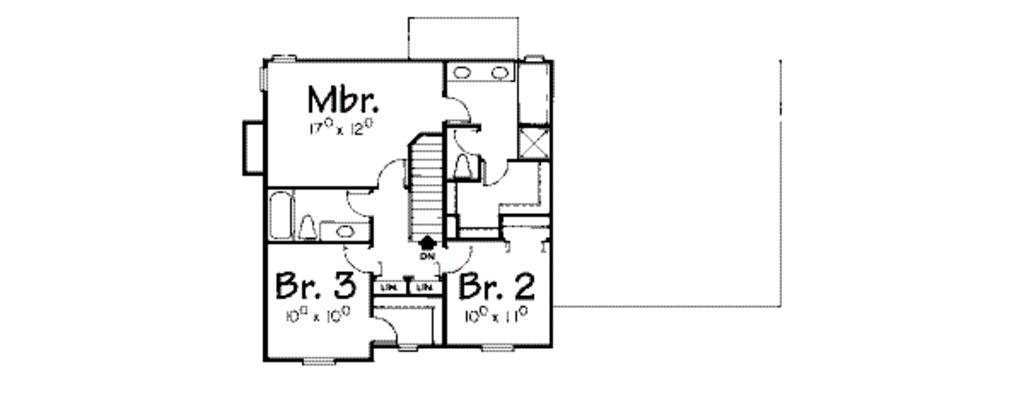door: (375, 154, 411, 196), (439, 90, 475, 130), (363, 313, 398, 347), (478, 156, 513, 190), (346, 187, 375, 221), (453, 125, 483, 155)
large_sink: (293, 212, 323, 240), (449, 152, 480, 179)
small_sink: (445, 60, 514, 88), (317, 221, 373, 248)
stairs: (403, 126, 448, 257)
tub: (267, 187, 296, 243)
window: (295, 352, 342, 370), (474, 340, 520, 357), (389, 340, 421, 355)
